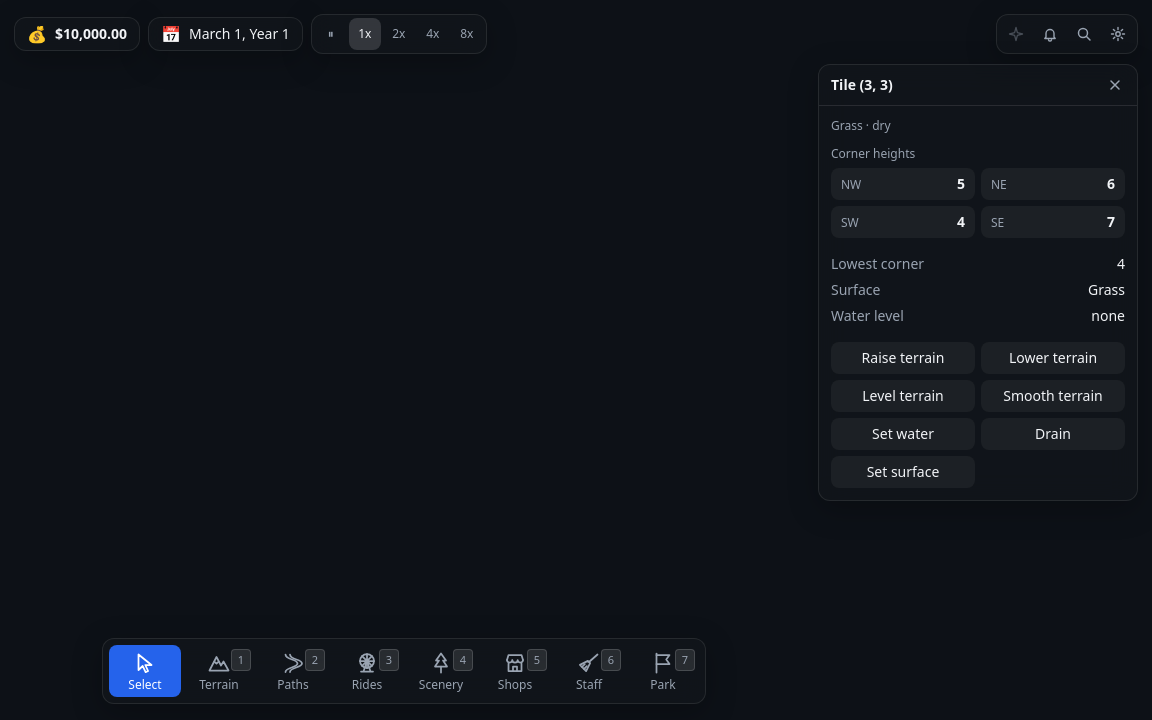
the status pills open the inspector › a click on the pill of a tile's panel brings the park back in its place
Expected: the heading "Tile (3, 3)" is shown, x1=831 y1=75 x2=893 y2=94
Click the button named "Open finances" at (77, 34), box x1=15 y1=18 x2=139 y2=50
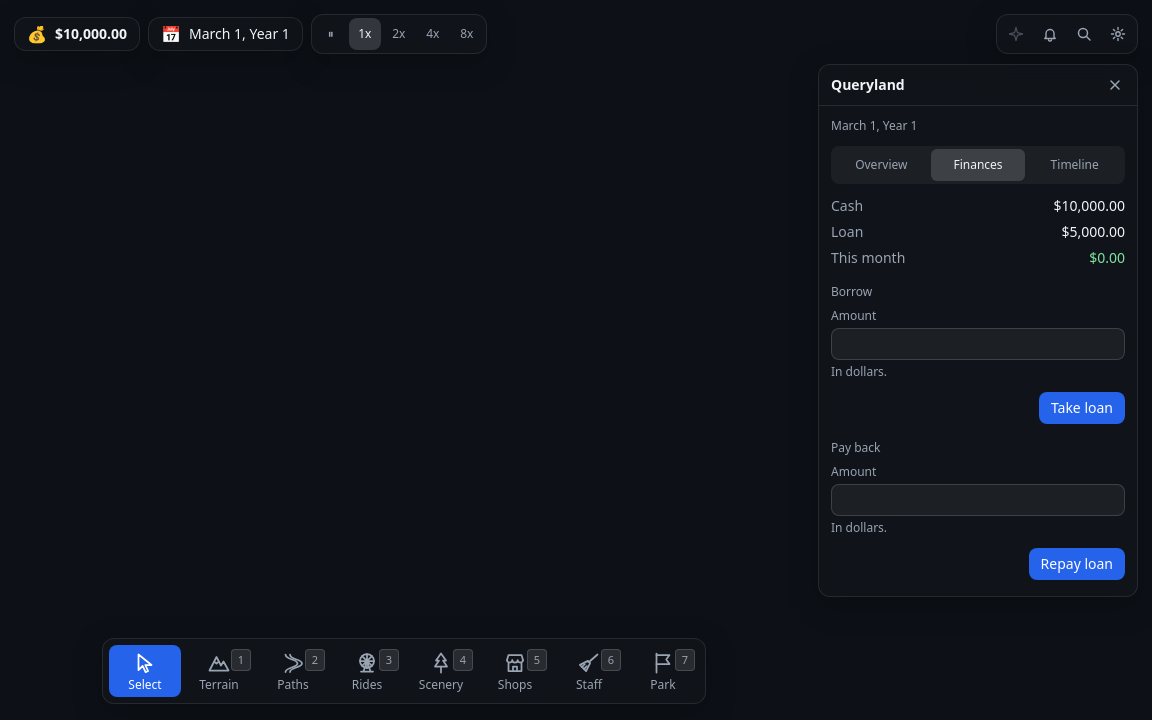
Expected: the number of elements named "Inspector" is 1, x1=818 y1=64 x2=1138 y2=597
Result: the number of tabs is 3 at x1=834 y1=149 x2=929 y2=181; x1=931 y1=149 x2=1025 y2=181; x1=1027 y1=149 x2=1122 y2=181
